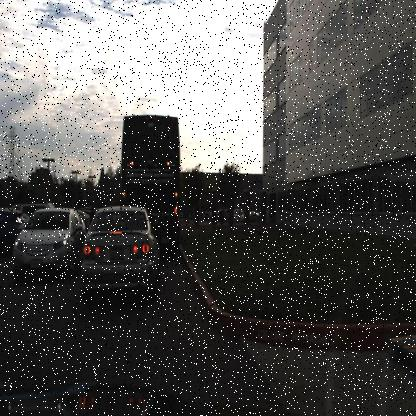car: (78, 206, 158, 290), (9, 202, 88, 280), (232, 207, 247, 225)
truck: (117, 111, 182, 241)
